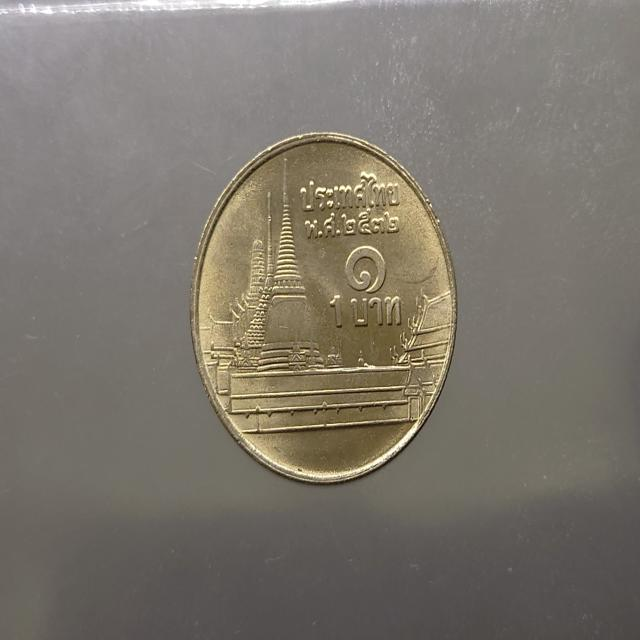1 Bath: (185, 125, 468, 506)
